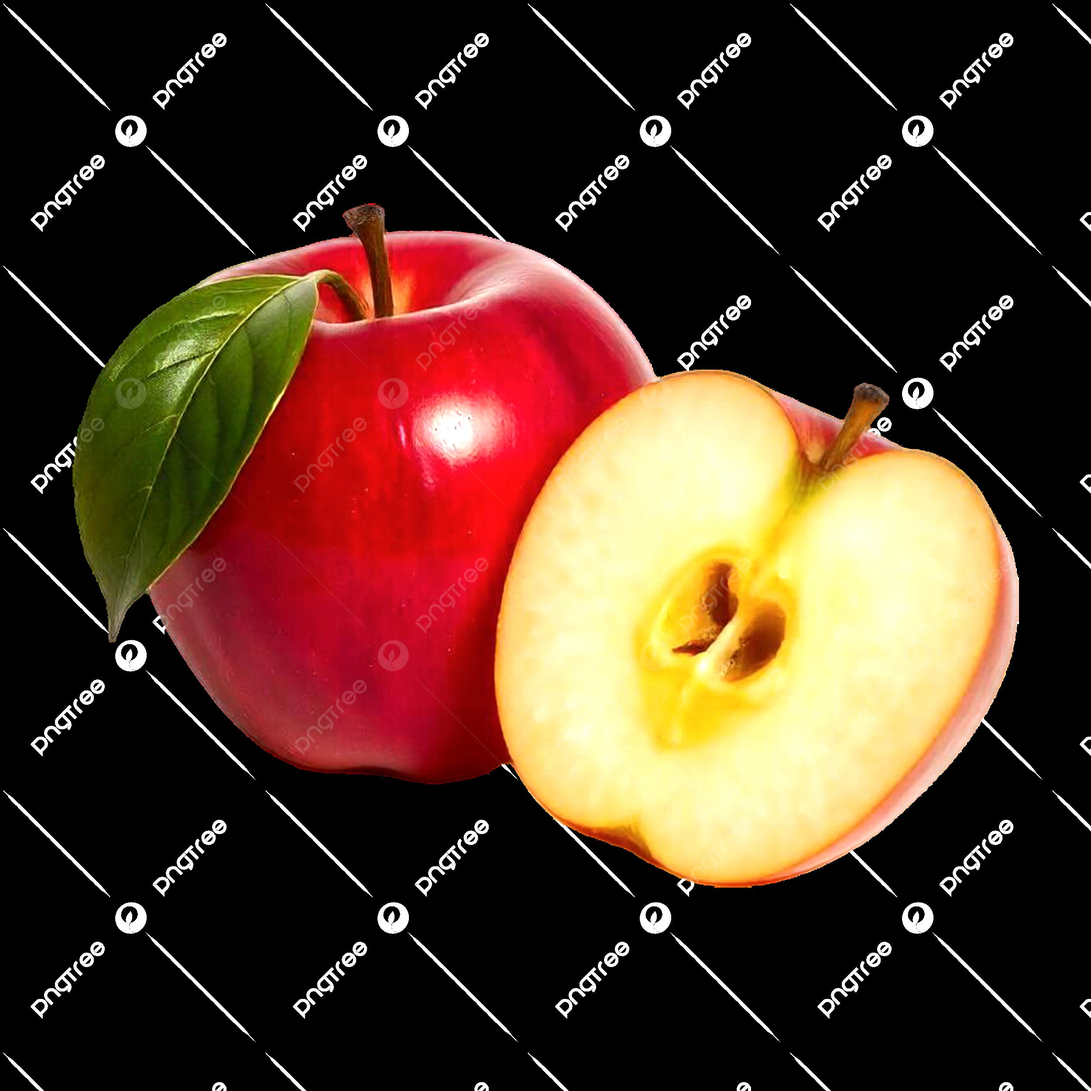apples: (70, 205, 1019, 896), (58, 248, 58, 256)
